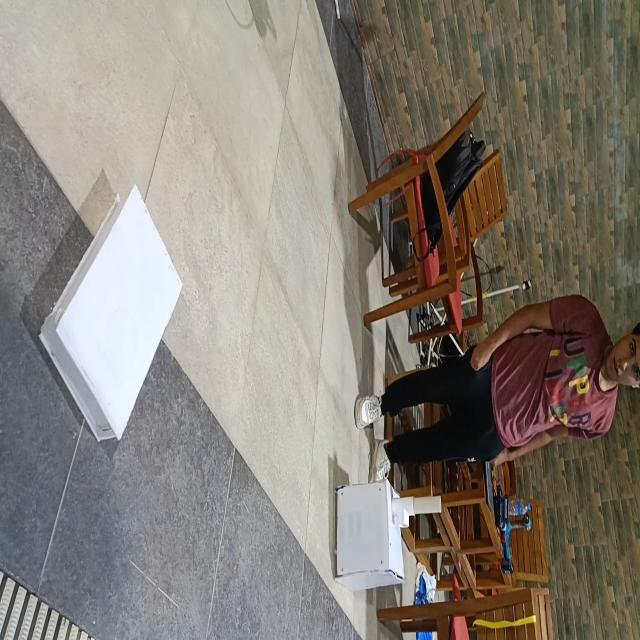Cube: (333, 478, 407, 592)
Cuboid: (38, 182, 183, 443)
